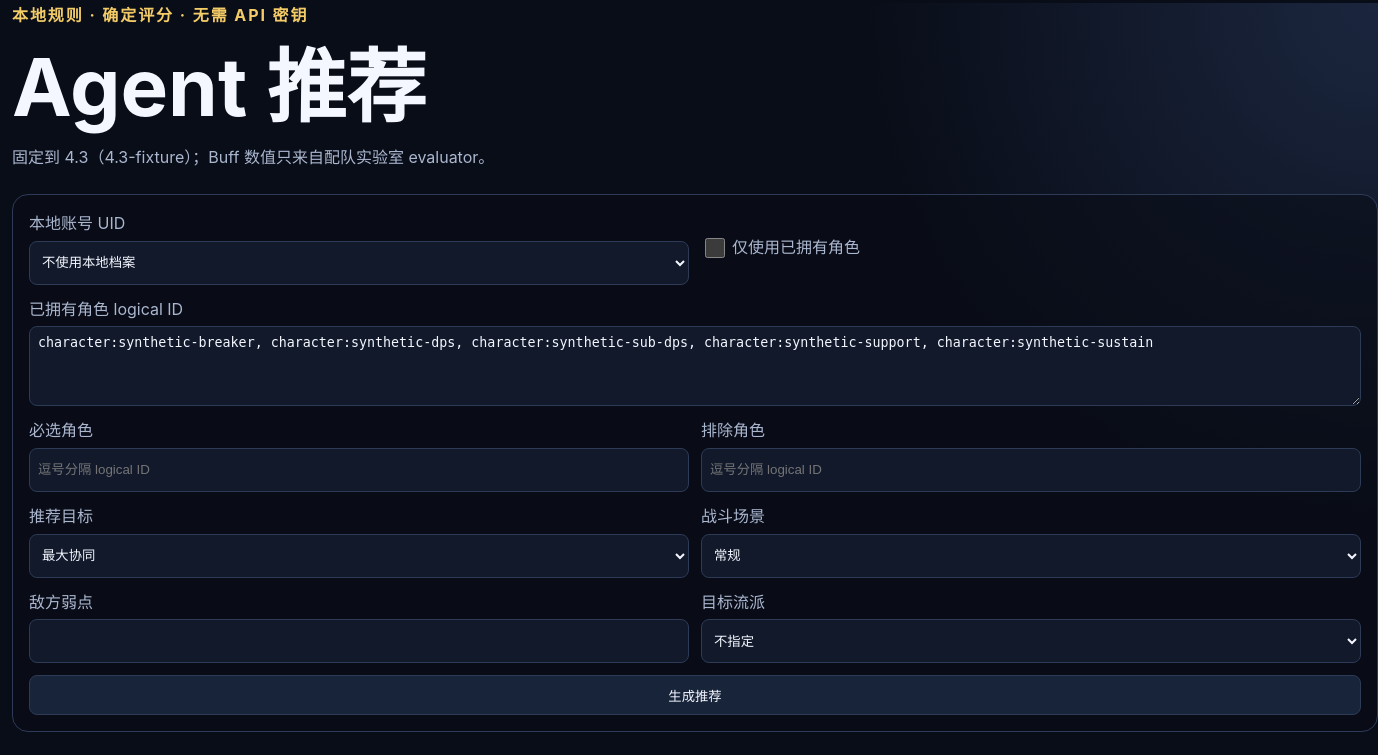
Test: RecommendationPage › shows a structured constraint conflict rather than inventing a team
The width and height of the screenshot is (1378, 755).
Click the checkbox labelled "仅使用已拥有角色".
click(715, 248)  # box top-left (705, 238), bottom-right (725, 258)
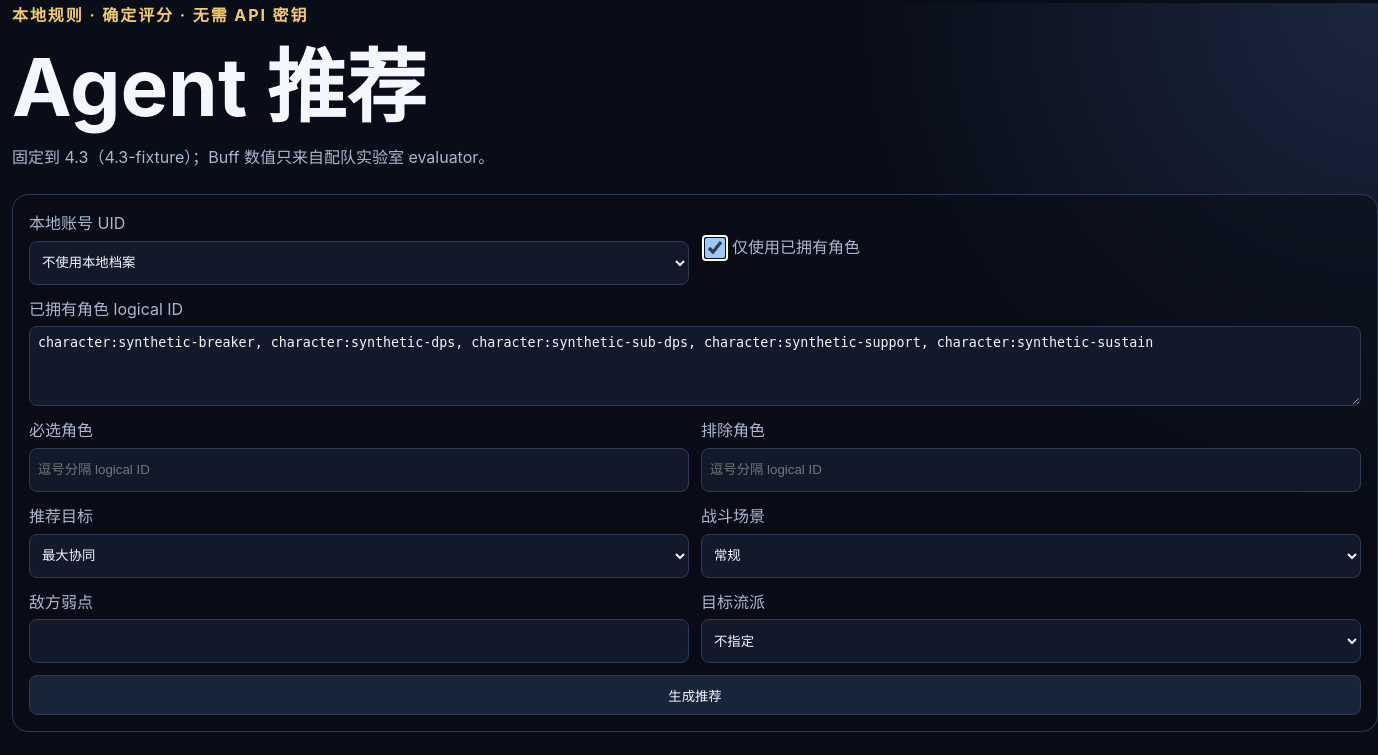
Replace the text in the text box labelled "已拥有角色 logical ID" with "character:synthetic-dps,character:synthetic-support" at (695, 366), box top-left (29, 326), bottom-right (1361, 406)
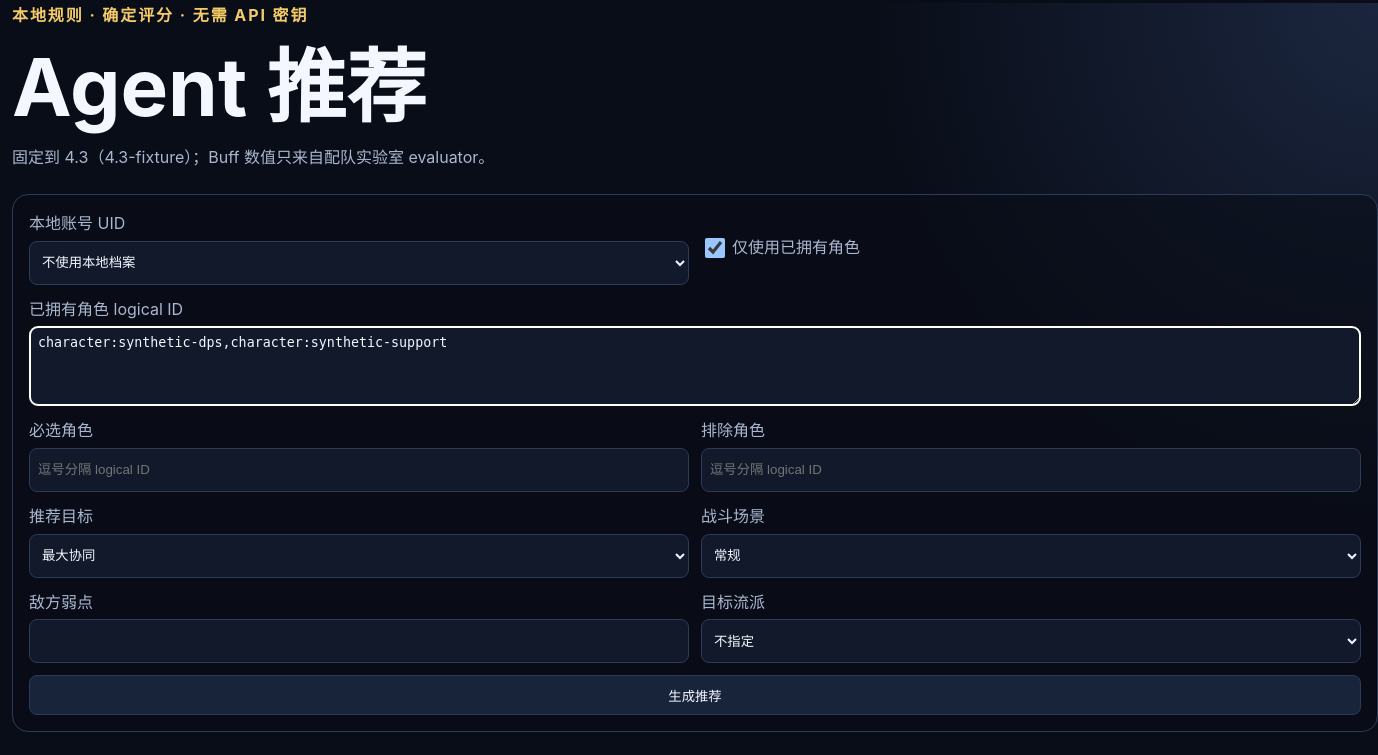
Click the button "生成推荐".
click(695, 695)  # box top-left (29, 675), bottom-right (1361, 715)
(page scrolled)
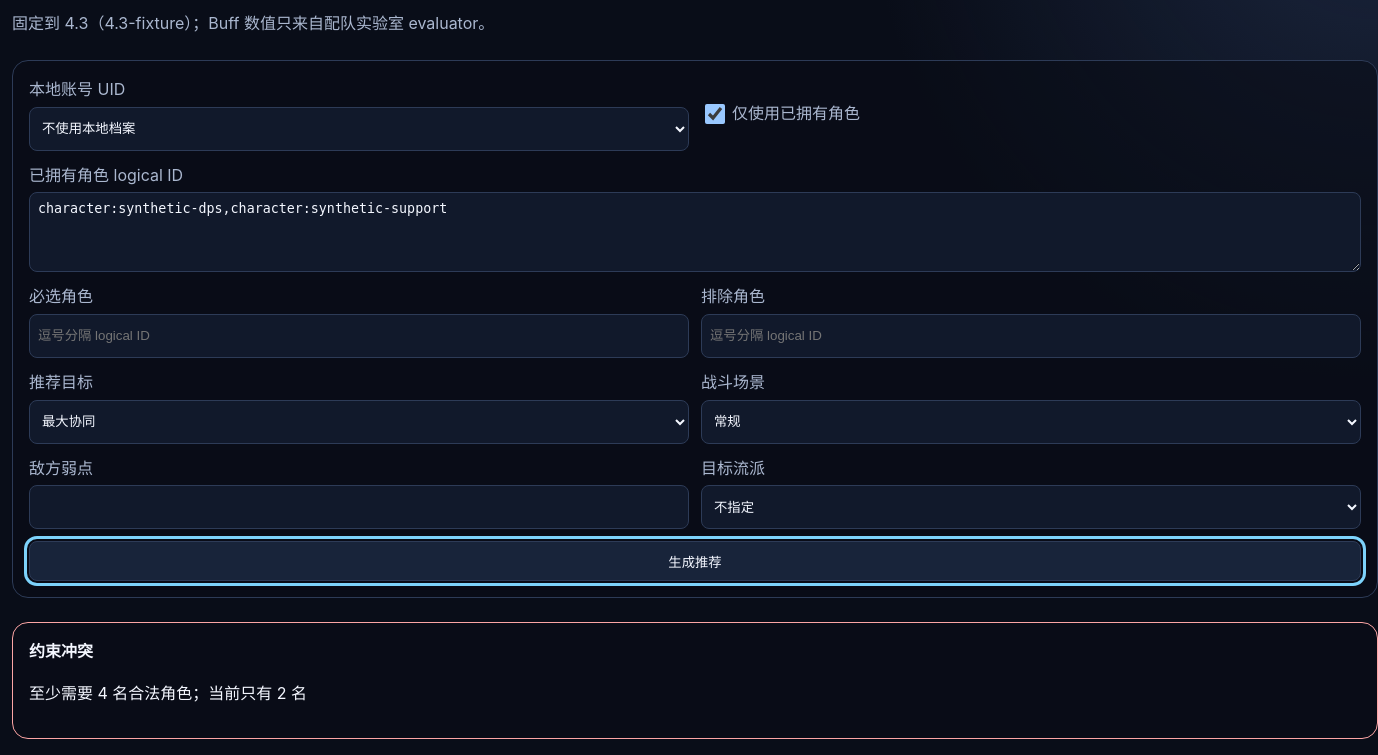
Result: the message shows "至少需要 4 名合法角色" at top-left (29, 683), bottom-right (307, 703)
